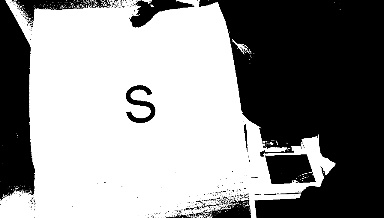S: (118, 80, 161, 124)
